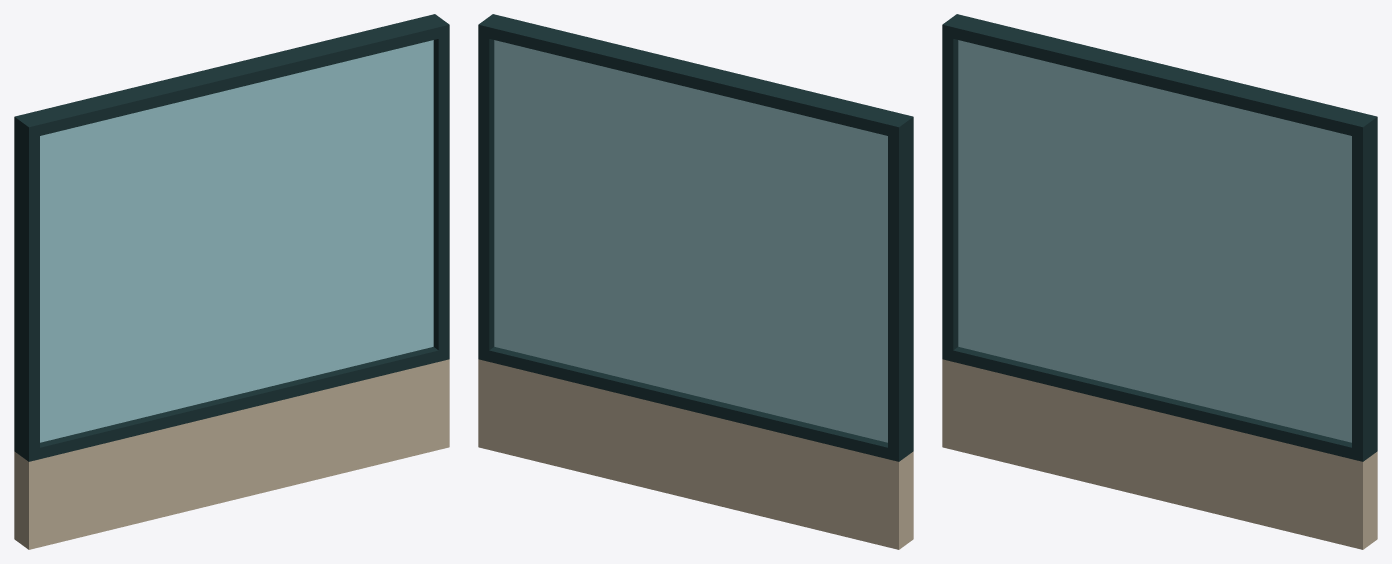
File: glass_panel.fbx
The picture shows the model from 3 angles, left to right: view 1: azimuth 30°, elevation 25°; view 2: azimuth 150°, elevation 25°; view 3: azimuth 330°, elevation 25°; orthographic projection.
Visible parts, largest first — view 1: glass_panel; view 2: glass_panel; view 3: glass_panel.
Part boxes in pixels (x1,y1,x2,y2): glass_panel: [14, 14, 449, 549]; glass_panel: [478, 14, 913, 549]; glass_panel: [942, 14, 1377, 549].
Bounding box in the file's own units: 2.5 × 2.4 × 0.15.
